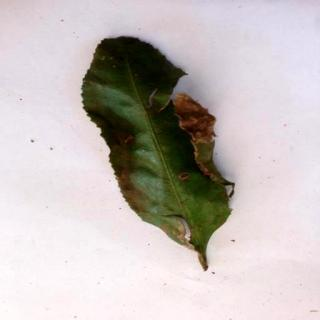Algal Leaf: (83, 37, 234, 273)
